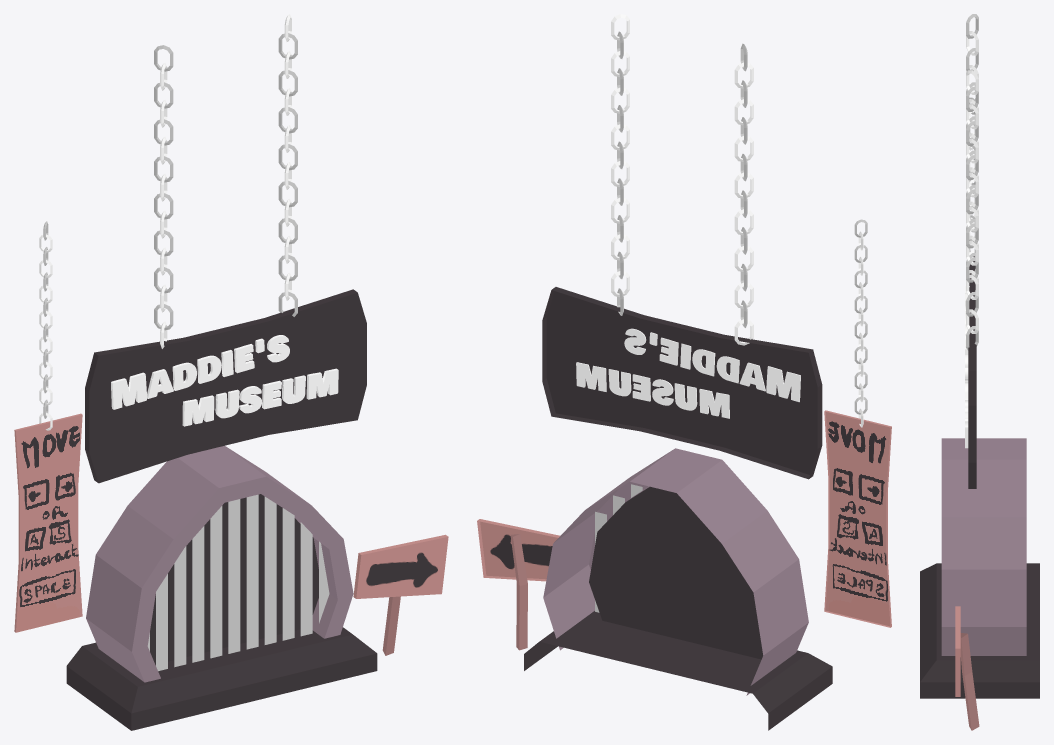
The model's file is Expos.gltf.
The picture shows the model from 3 angles, left to right: view 1: azimuth 30°, elevation 25°; view 2: azimuth 150°, elevation 25°; view 3: azimuth 270°, elevation 25°; orthographic projection. The views are drawn at different scales.
Parts seen in each view (by area): view 1: Cube.001; view 2: Cube.001; view 3: Cube.001.
Boxes of the visible parts, bbox=[...] form: Cube.001: bbox=[14, 14, 448, 730]; Cube.001: bbox=[477, 14, 891, 730]; Cube.001: bbox=[920, 14, 1039, 730].
Size of the model in its own units: 6.09 by 9.11 by 1.61.
1 material, 1 textured.
